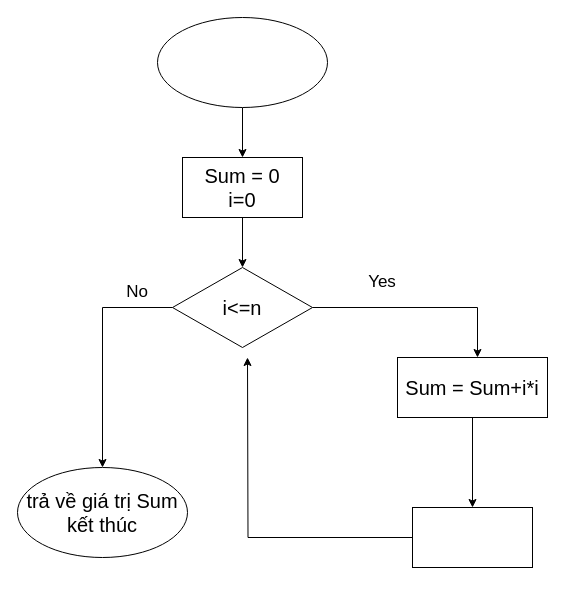
Some shapes in this 565 by 593 pixel diagram are drawn without their labels. Each missing label, with the box of its shape:
i++: (412, 506, 532, 568)
nhập n: (156, 16, 328, 108)
